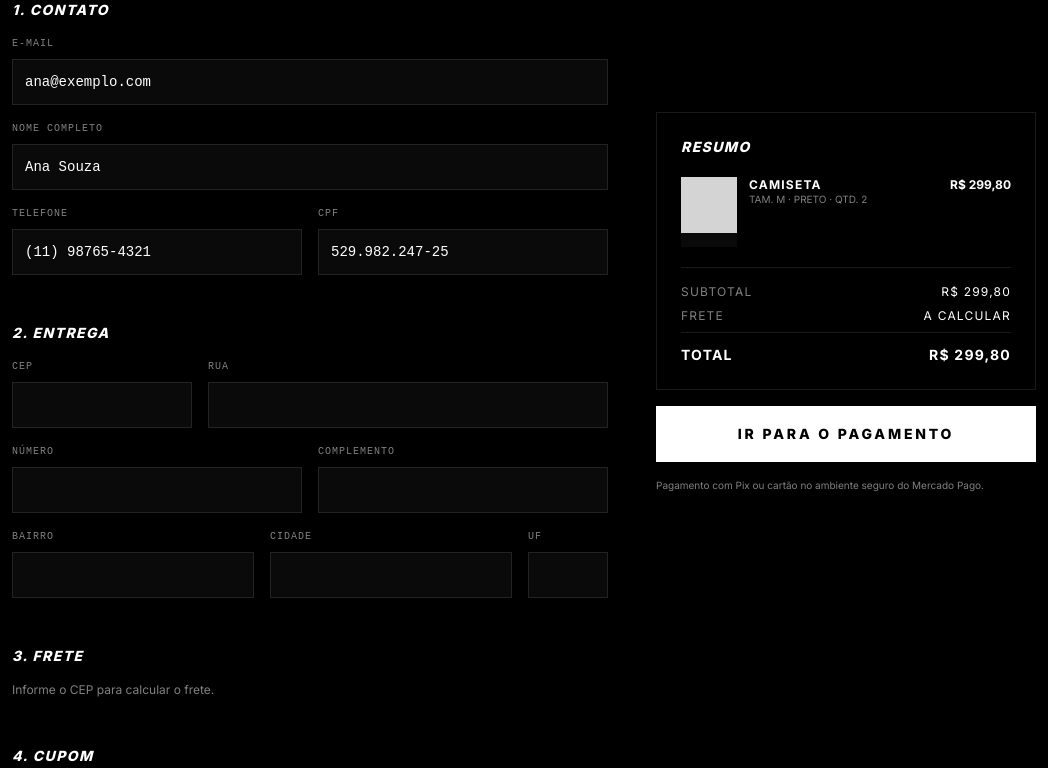
checkout › cupom digitado e não aplicado bloqueia o pagamento
expect the text "Camiseta" is shown: met, box [749,177,822,192]
Type "01001000" into the field labelled "CEP" at coordinates (102, 405), box [12,382,192,428]
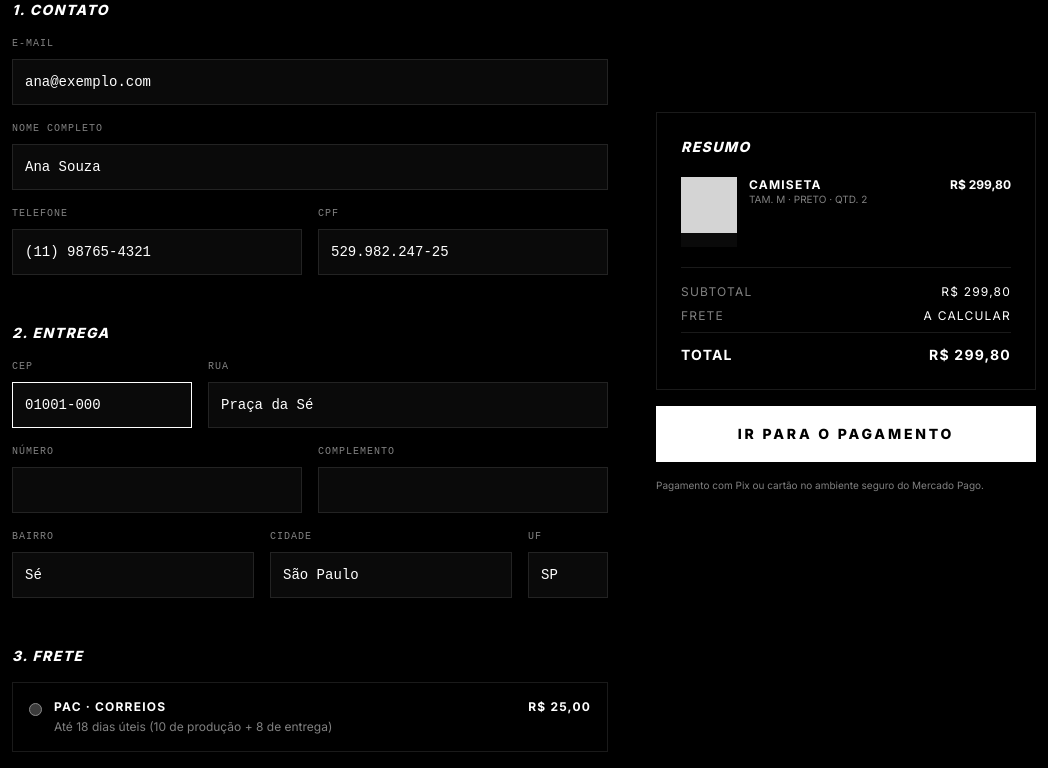
Type "100" into the field labelled "Número" at coordinates (157, 490), box [12,467,302,513]
(page scrolled)
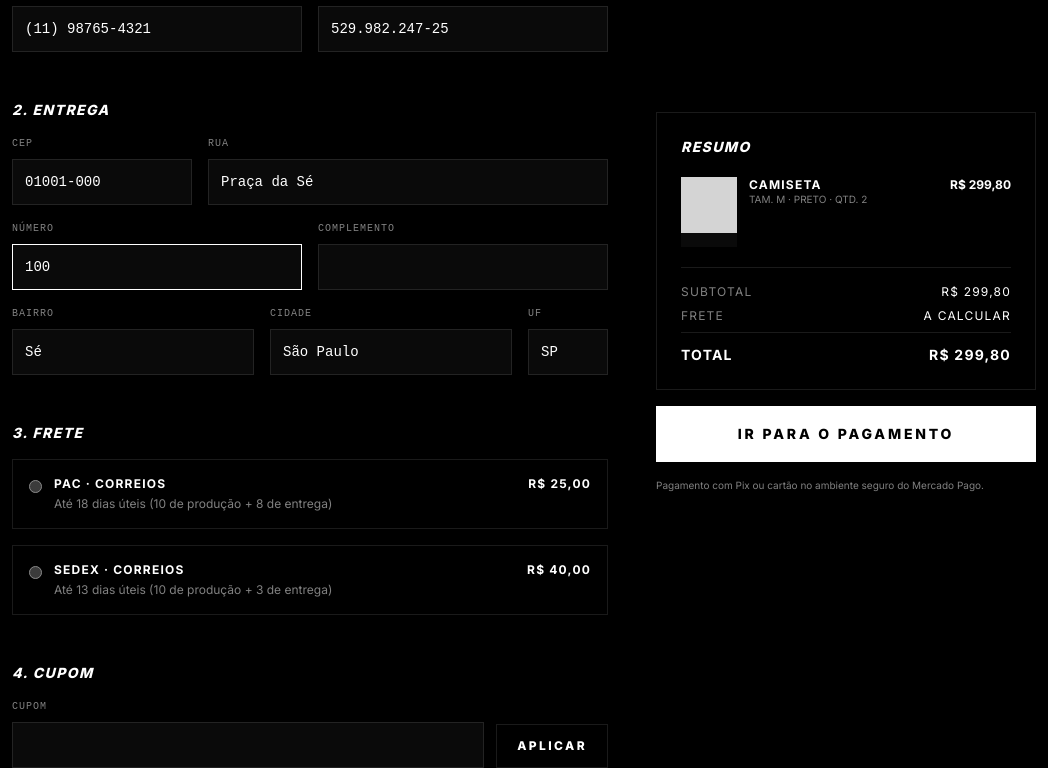
Click the radio button labelled "SEDEX" at coordinates (36, 572), box [29,566,42,579]
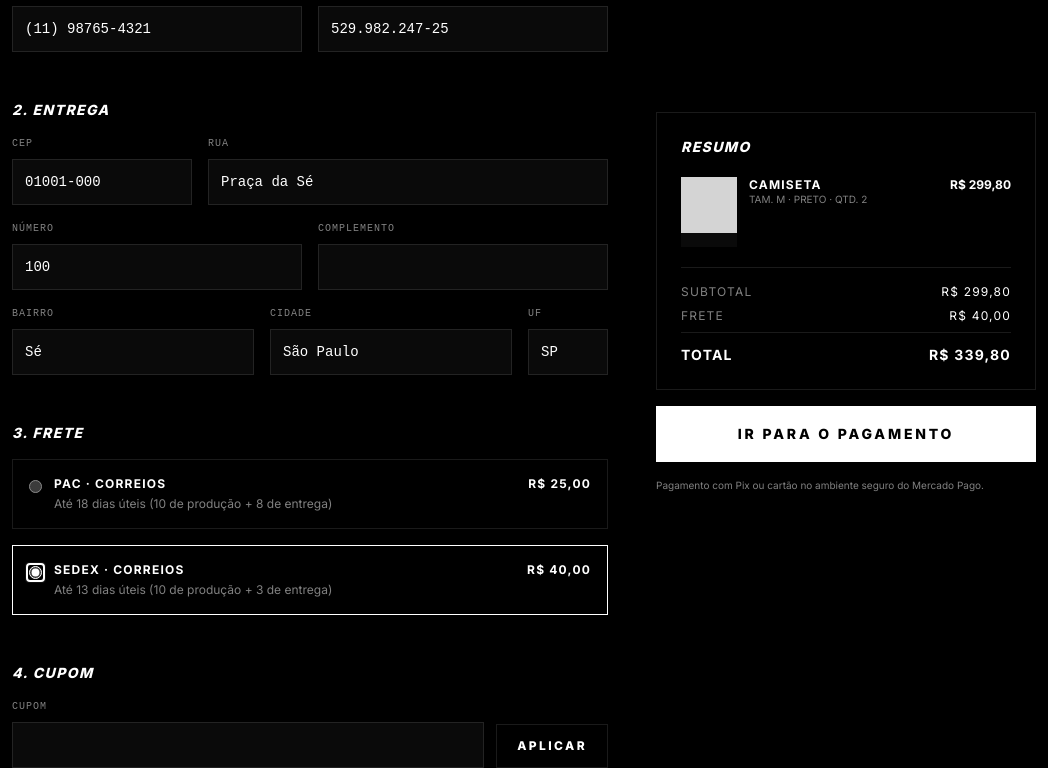
Type "bemvindo" into the field labelled "Cupom" at coordinates (248, 745), box [12,722,484,767]
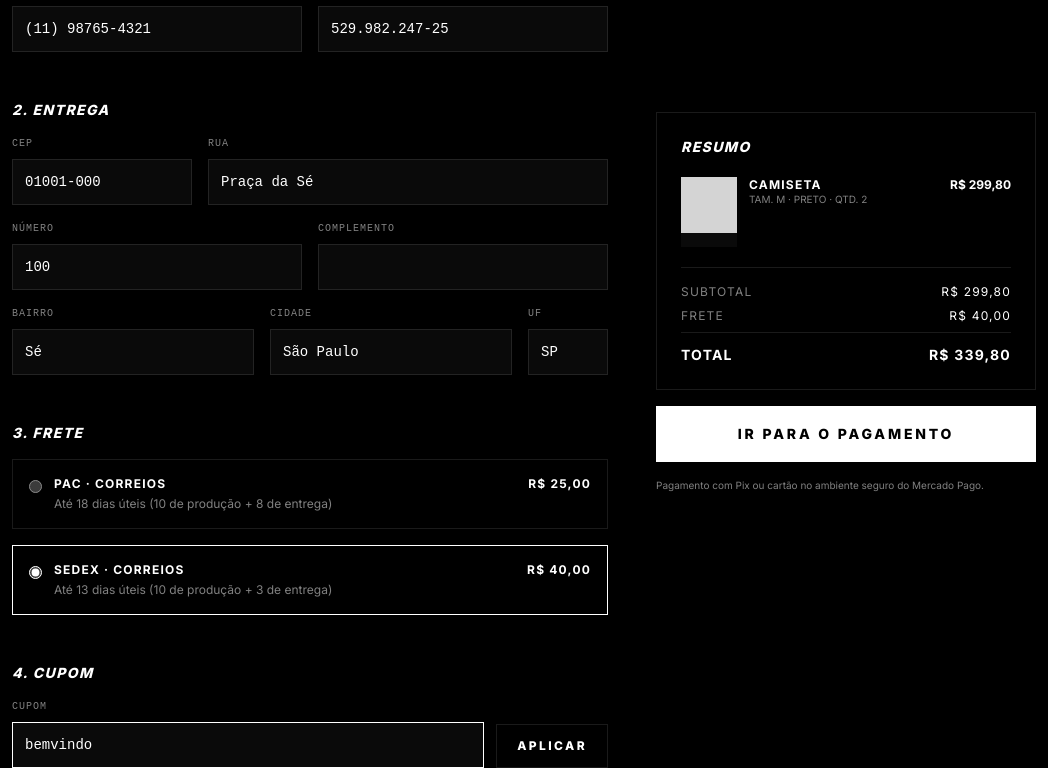
Click the button "Ir para o pagamento" at coordinates (846, 434), box [656,406,1036,462]
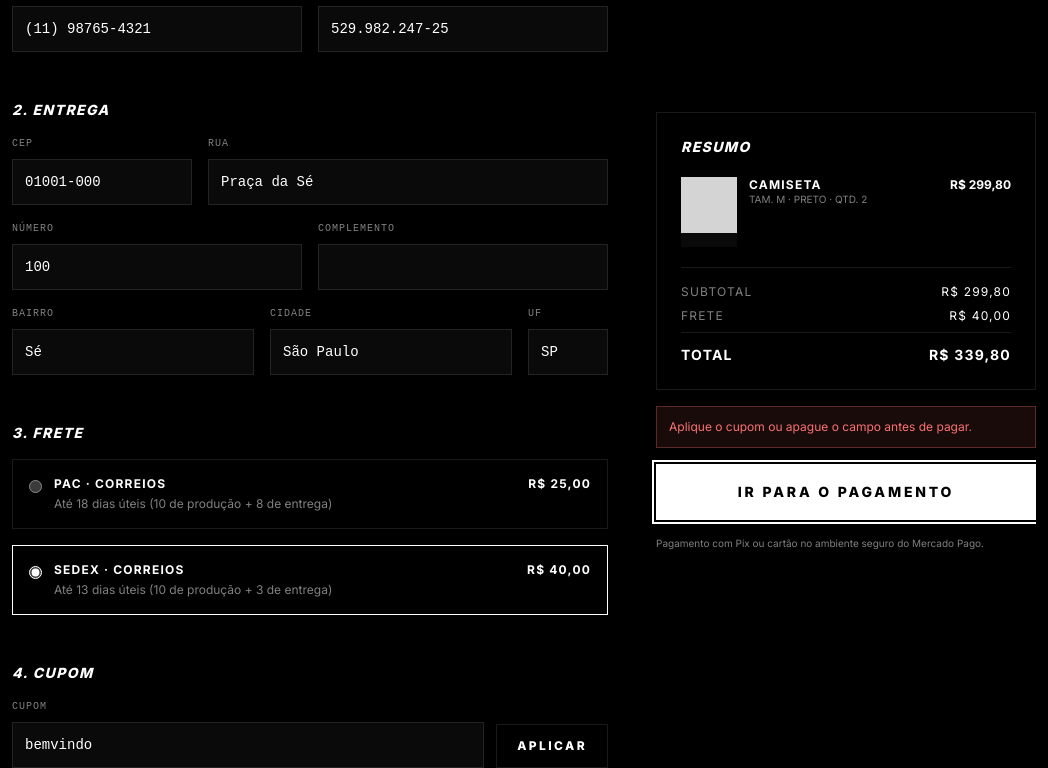
expect the text "Aplique o cupom ou apague o campo antes de pagar." is shown: met, box [656,406,1036,448]
